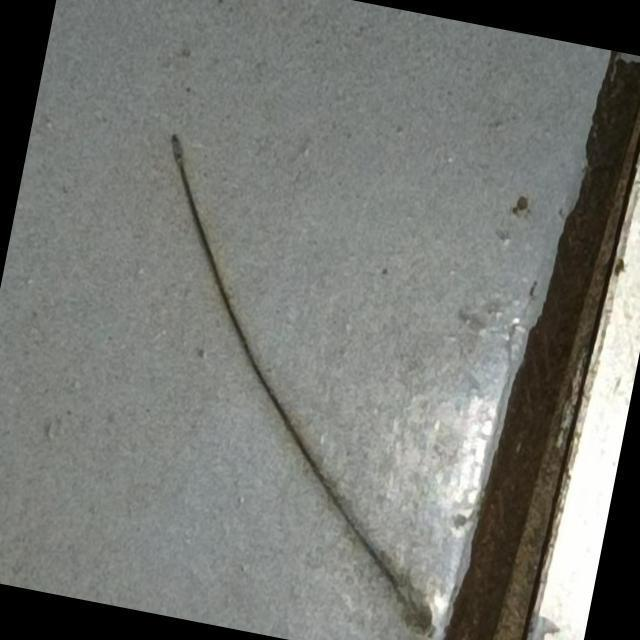defect: (158, 122, 437, 640)
